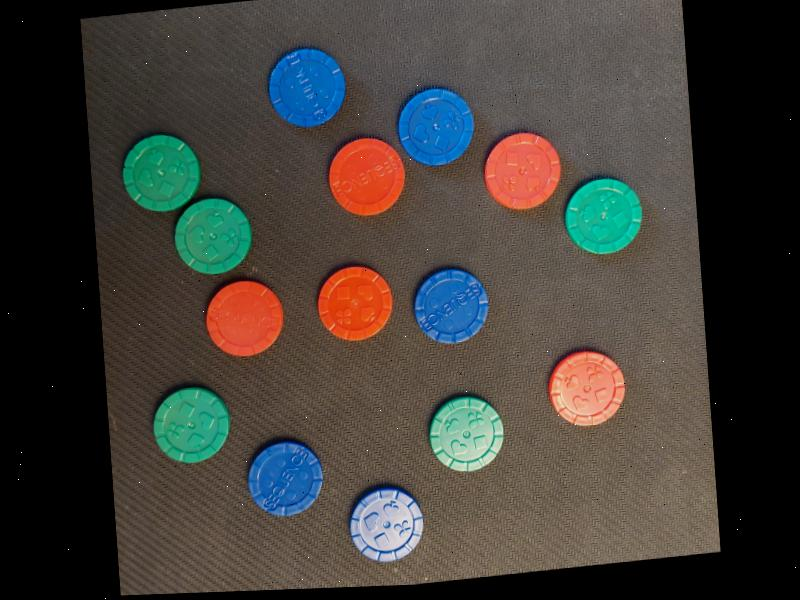Blue_Token: (258, 39, 354, 137), (242, 433, 334, 534), (340, 477, 426, 577), (406, 261, 499, 353), (394, 76, 477, 170)
Green_Token: (112, 118, 212, 228), (166, 182, 264, 283), (559, 161, 655, 261), (142, 374, 236, 476), (420, 390, 507, 479)
Red_Token: (474, 113, 569, 226), (314, 251, 403, 363), (544, 332, 636, 437), (328, 124, 412, 228), (208, 270, 292, 360)
